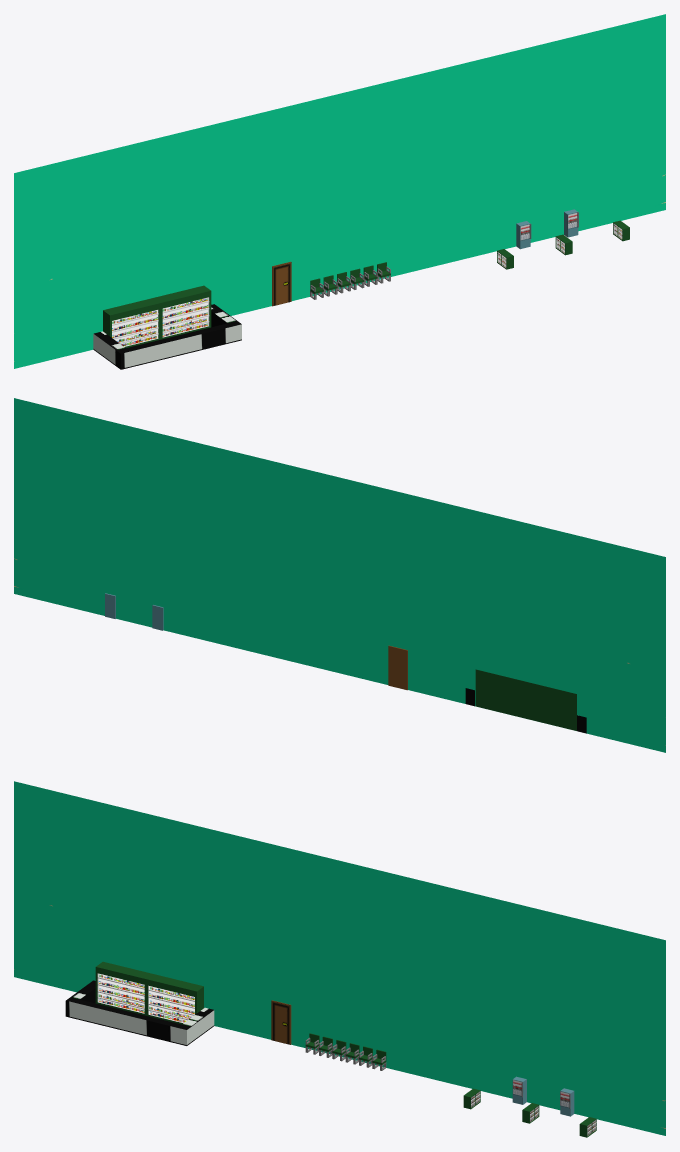
The model's file is Farmacia.FBX.
The picture shows the model from 3 angles, top to bottom: view 1: azimuth 30°, elevation 25°; view 2: azimuth 150°, elevation 25°; view 3: azimuth 330°, elevation 25°; orthographic projection.
Visible parts, largest first — view 1: Parede, Bal_01, Est_02, Est_01, Cad_01, Pra_01, Porta, Ref_01; view 2: Parede, Est_02, Est_01, Porta, Ref_01; view 3: Parede, Bal_01, Est_02, Est_01, Cad_01, Pra_01, Porta, Ref_01.
Boxes of the visible parts, left/top/right/bottom form: Parede: left=14, top=14, right=665, bottom=368; Bal_01: left=93, top=304, right=241, bottom=369; Est_02: left=154, top=285, right=211, bottom=339; Est_01: left=103, top=298, right=160, bottom=347; Cad_01: left=310, top=262, right=390, bottom=299; Pra_01: left=497, top=220, right=629, bottom=269; Porta: left=272, top=261, right=291, bottom=306; Ref_01: left=516, top=209, right=578, bottom=249; Parede: left=14, top=398, right=665, bottom=752; Est_02: left=475, top=669, right=526, bottom=718; Est_01: left=526, top=682, right=576, bottom=730; Porta: left=388, top=645, right=407, bottom=690; Ref_01: left=105, top=593, right=163, bottom=630; Parede: left=14, top=781, right=665, bottom=1135; Bal_01: left=65, top=980, right=214, bottom=1045; Est_02: left=146, top=974, right=203, bottom=1024; Est_01: left=95, top=961, right=152, bottom=1015; Cad_01: left=305, top=1033, right=386, bottom=1070; Pra_01: left=463, top=1088, right=596, bottom=1137; Porta: left=271, top=1000, right=291, bottom=1044; Ref_01: left=512, top=1076, right=574, bottom=1116.
Bounding box in the file's own units: 6822 × 1958 × 512.
